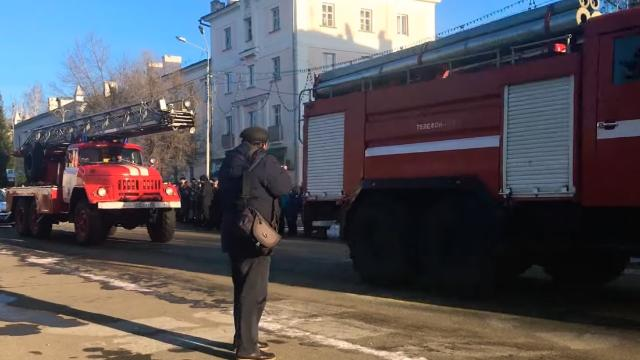fire fighting vehicle: (302, 3, 640, 302), (6, 97, 192, 247)
